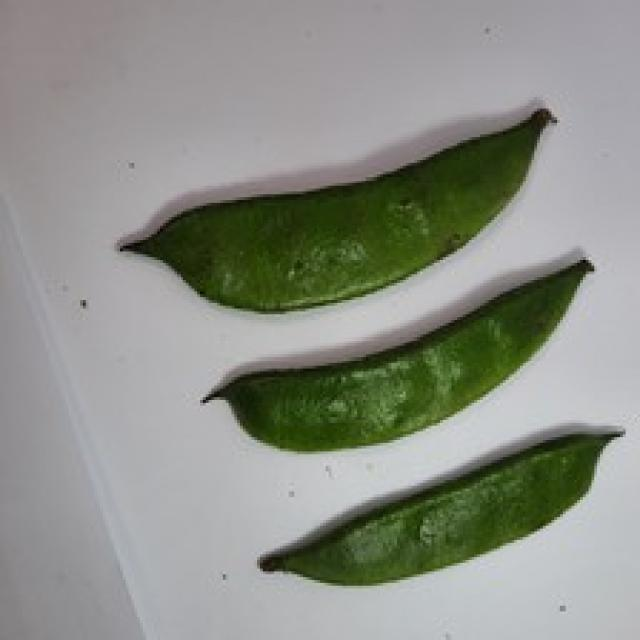Bean: (117, 103, 557, 311), (200, 257, 594, 452), (254, 423, 623, 586)
